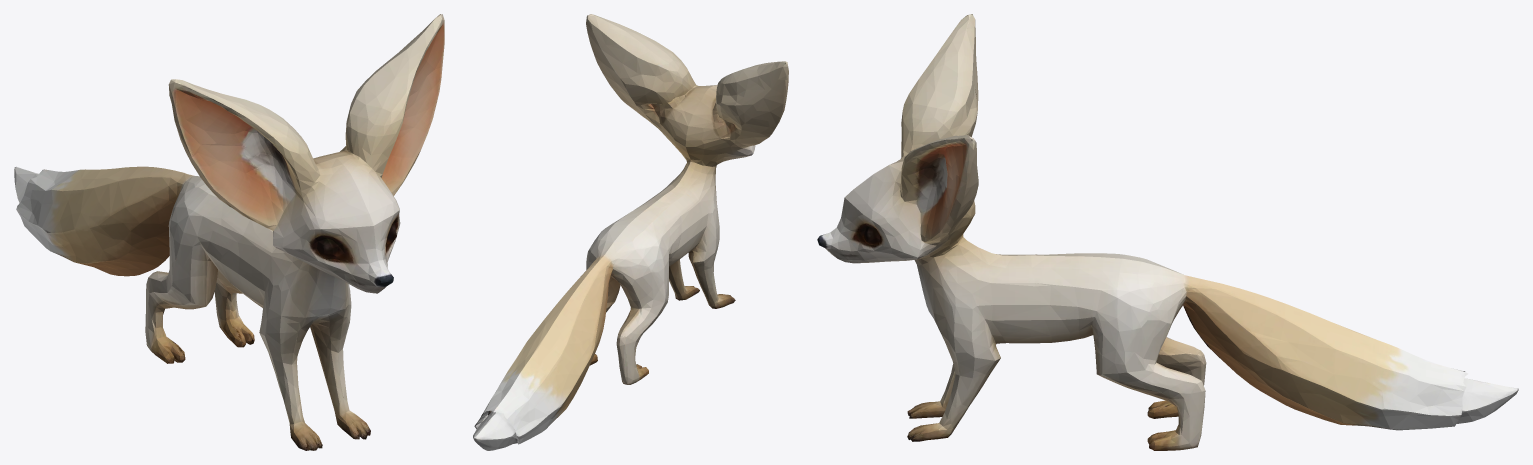
Rendered from fennec_fox.glb.
3 renders of one model, left to right at view 1: azimuth 30°, elevation 25°; view 2: azimuth 150°, elevation 25°; view 3: azimuth 270°, elevation 25°, orthographic. The views are drawn at different scales.
Parts seen in each view (by area): view 1: geometry_0; view 2: geometry_0; view 3: geometry_0.
Part boxes in pixels (x1,y1,x2,y2): geometry_0: (14,14,444,450); geometry_0: (473,14,788,450); geometry_0: (817,14,1518,450).
Size of the model in its own units: 0.4266 by 0.5617 by 1.
Materials: 1 (1 with a texture image).
